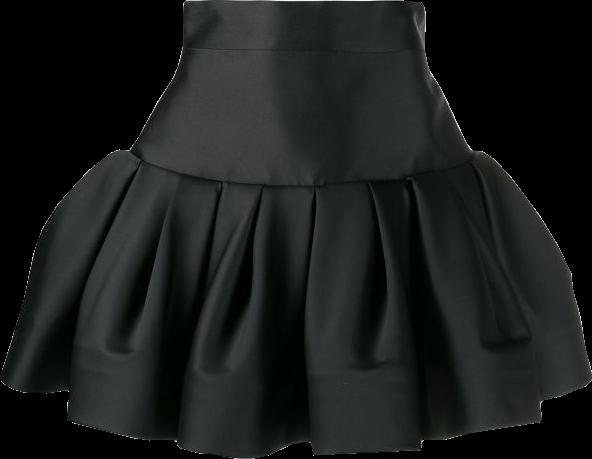Hemline: (0, 375, 591, 458)
Waistline: (126, 149, 478, 187), (181, 45, 426, 57), (182, 0, 421, 4)
